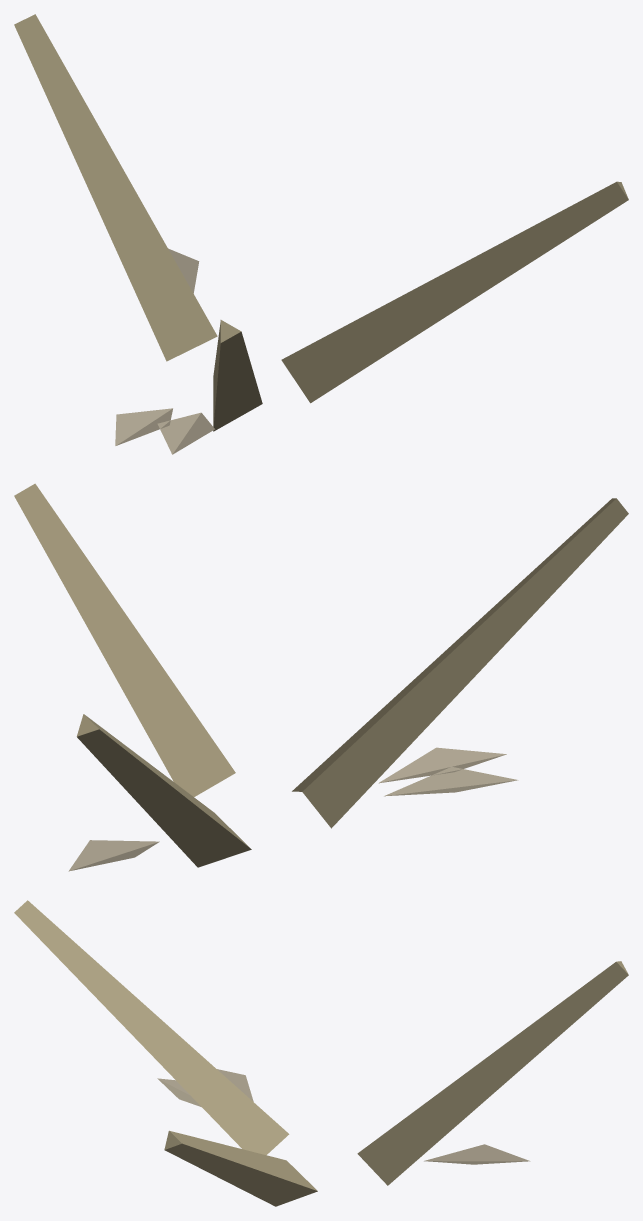
Rendered from guan.zhizi@withered__summer.glb.
The picture shows the model from 3 angles, top to bottom: view 1: azimuth 30°, elevation 25°; view 2: azimuth 150°, elevation 25°; view 3: azimuth 270°, elevation 25°; orthographic projection. The views are drawn at different scales.
Parts seen in each view (by area): view 1: guan.zhizi@withered__summer; view 2: guan.zhizi@withered__summer; view 3: guan.zhizi@withered__summer.
Boxes of the visible parts, left/top/right/bottom form: guan.zhizi@withered__summer: left=14, top=14, right=628, bottom=454; guan.zhizi@withered__summer: left=14, top=483, right=628, bottom=871; guan.zhizi@withered__summer: left=14, top=900, right=628, bottom=1206.
Size of the model in its own units: 0.6022 by 0.2975 by 0.768.
